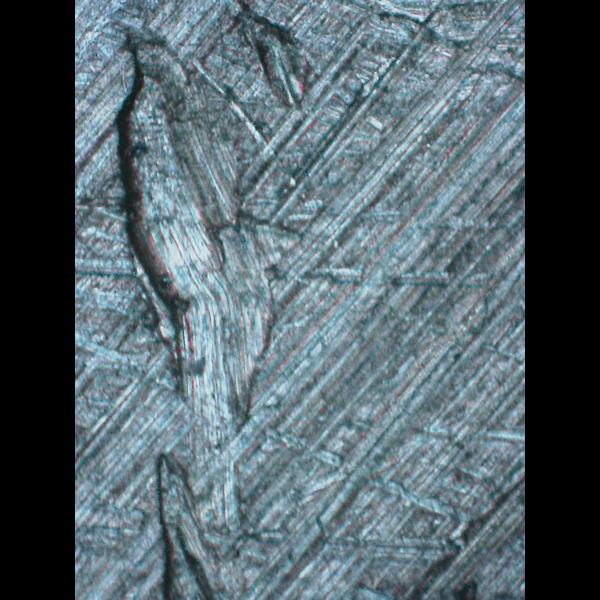d: (105, 2, 336, 599)
